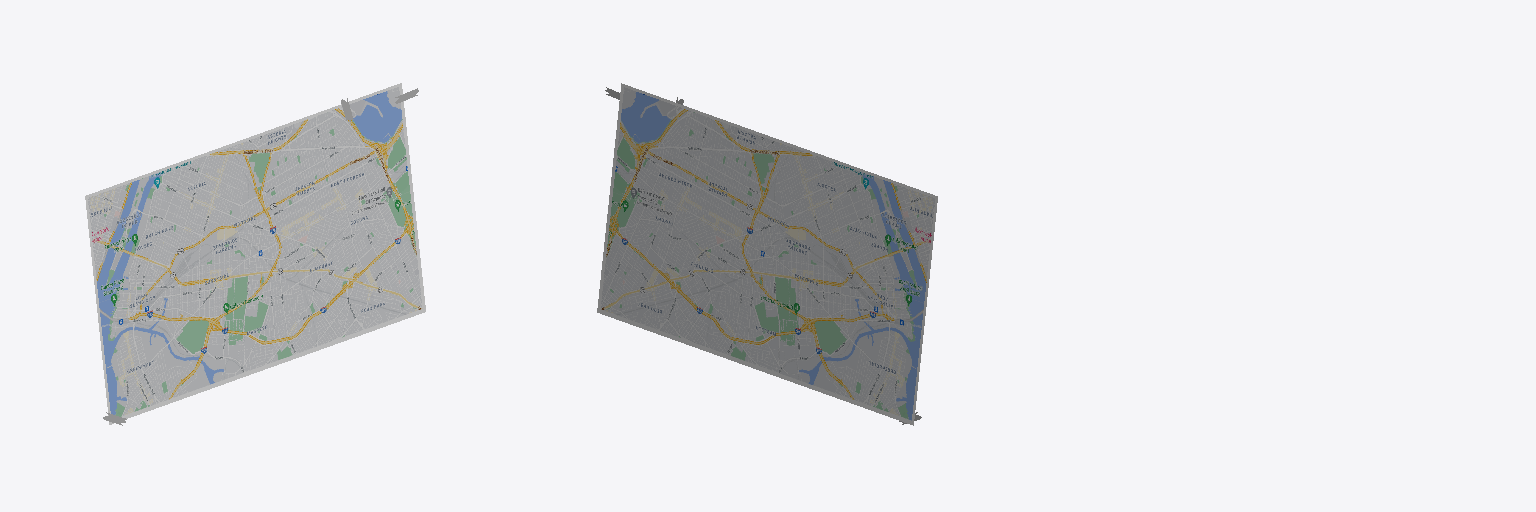
The picture shows the model from 3 angles: view 1: azimuth 30°, elevation 25°; view 2: azimuth 150°, elevation 25°; view 3: azimuth 270°, elevation 25°; orthographic projection.
Parts seen in each view (by area): view 1: Map_Plane.007; view 2: Map_Plane.007; view 3: none.
Part boxes in pixels (x1,y1,x2,y2): Map_Plane.007: (85,83,425,424); Map_Plane.007: (597,83,937,425).
Bounding box in the file's own units: 2.54 × 1.96 × 0.0097.
2 materials, 1 textured.